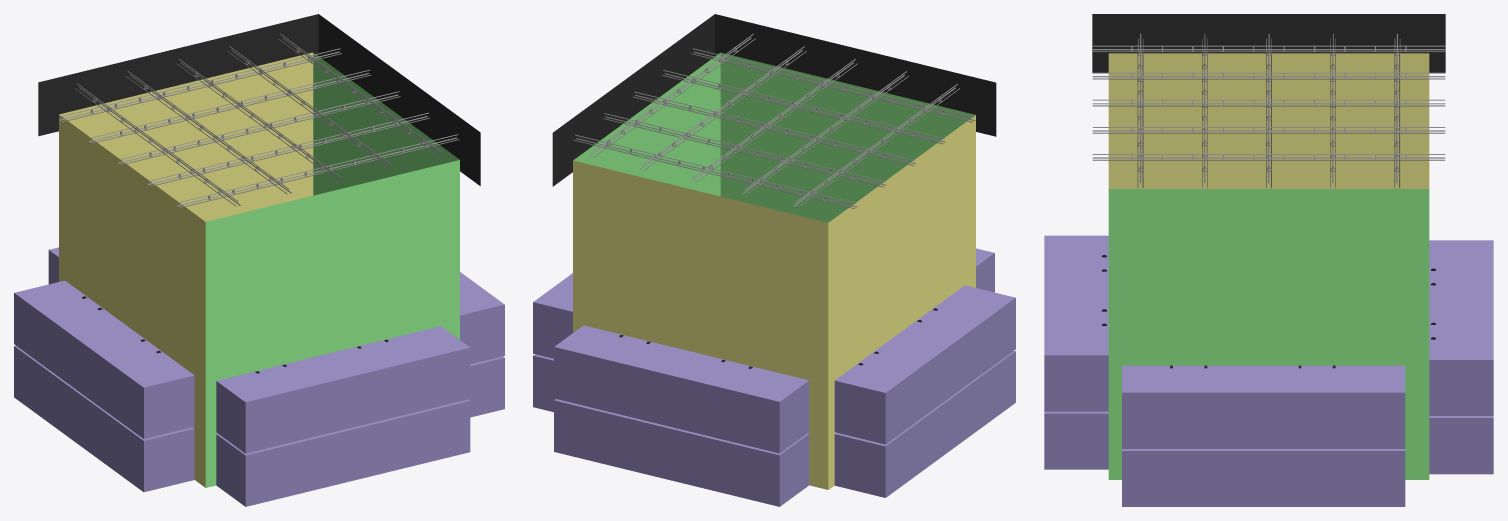
The model's file is Test_Room_Version2.FBX.
The picture shows the model from 3 angles, left to right: view 1: azimuth 30°, elevation 25°; view 2: azimuth 150°, elevation 25°; view 3: azimuth 270°, elevation 25°; orthographic projection. The views are drawn at different scales.
Parts seen in each view (by area): view 1: Plane213, Plane220, Plane050, Box016, Box002, Box028, Box015, Plane227, Box027, Box030, Box029, Box011 (+9 smaller); view 2: Plane050, Plane220, Plane213, Box014, Box002, Box028, Box013, Plane227, Box027, Box030, Box020, Box018 (+10 smaller); view 3: Plane227, Plane220, Box030, Box029, Box002, Box016, Box014, Box013, Box015, Box022, Box023, Box024 (+7 smaller).
Part boxes in pixels (left/top/right/bottom): Plane213: left=205, top=160, right=459, bottom=487; Plane220: left=59, top=115, right=205, bottom=487; Plane050: left=59, top=52, right=313, bottom=221; Box016: left=216, top=326, right=470, bottom=453; Box002: left=38, top=14, right=480, bottom=185; Box028: left=14, top=280, right=194, bottom=438; Box015: left=216, top=399, right=470, bottom=506; Plane227: left=313, top=53, right=459, bottom=195; Box027: left=14, top=345, right=194, bottom=492; Box030: left=460, top=272, right=504, bottom=364; Box029: left=468, top=356, right=504, bottom=417; Box011: left=177, top=134, right=459, bottom=208; Plane050: left=573, top=160, right=828, bottom=489; Plane220: left=828, top=115, right=975, bottom=489; Plane213: left=720, top=52, right=975, bottom=222; Box014: left=554, top=325, right=809, bottom=453; Box002: left=552, top=14, right=996, bottom=186; Box028: left=834, top=285, right=1015, bottom=444; Box013: left=554, top=399, right=809, bottom=506; Plane227: left=573, top=53, right=720, bottom=196; Box027: left=834, top=351, right=1015, bottom=497; Box030: left=533, top=273, right=572, bottom=358; Box020: left=603, top=113, right=886, bottom=187; Box018: left=662, top=70, right=945, bottom=144; Plane227: left=1108, top=189, right=1429, bottom=479; Plane220: left=1108, top=53, right=1429, bottom=188; Box030: left=1122, top=365, right=1405, bottom=448; Box029: left=1122, top=449, right=1405, bottom=506; Box002: left=1092, top=14, right=1445, bottom=72; Box016: left=1044, top=235, right=1108, bottom=411; Box014: left=1429, top=240, right=1493, bottom=415; Box013: left=1429, top=416, right=1493, bottom=474; Box015: left=1044, top=411, right=1108, bottom=469; Box022: left=1092, top=45, right=1445, bottom=52; Box023: left=1092, top=72, right=1445, bottom=79; Box024: left=1092, top=99, right=1445, bottom=106.
Bounding box in the file's own units: 140 × 111 × 140.
